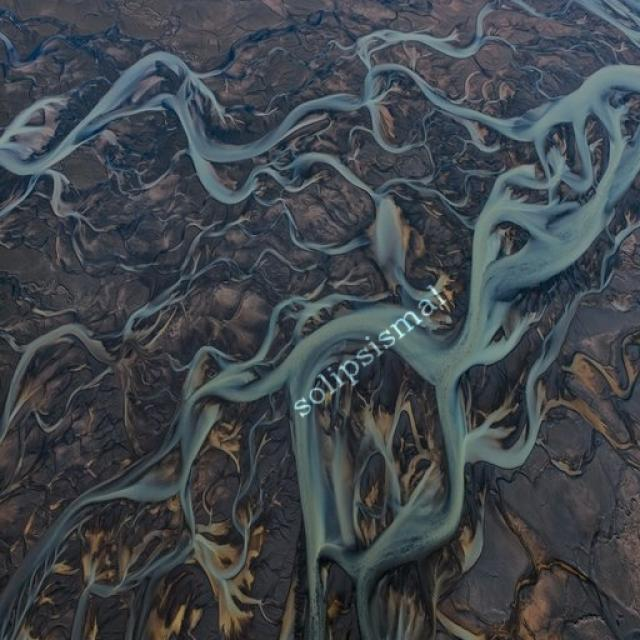watermark: (292, 274, 446, 423)
